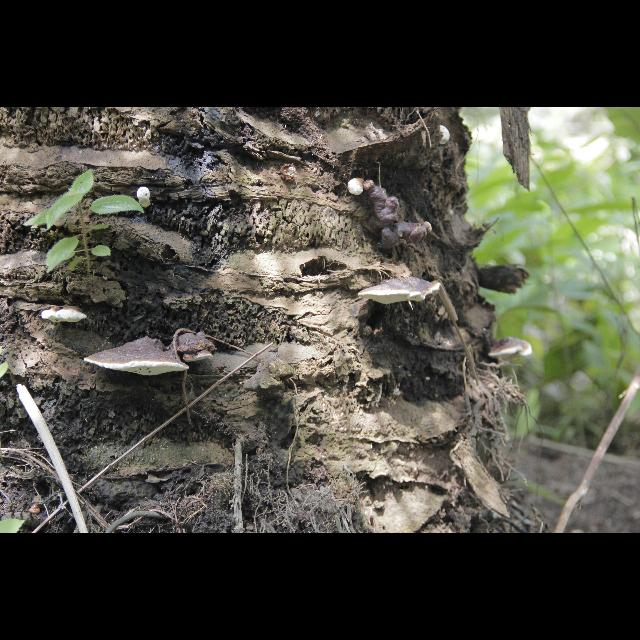ganoderma: (367, 181, 425, 254), (85, 338, 192, 377), (358, 276, 442, 306), (172, 333, 218, 363), (488, 338, 534, 362), (43, 306, 90, 324)
primordium: (137, 187, 153, 209), (349, 179, 366, 197), (441, 126, 452, 146), (425, 222, 433, 235)
